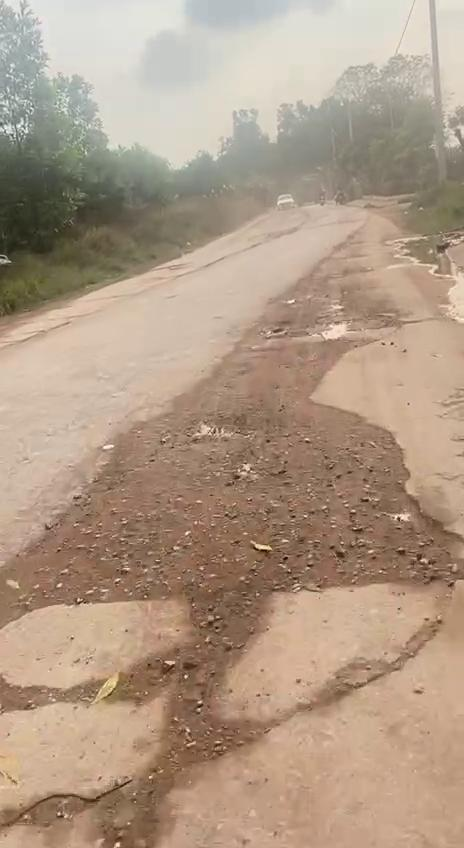pothole: (0, 604, 325, 848)
